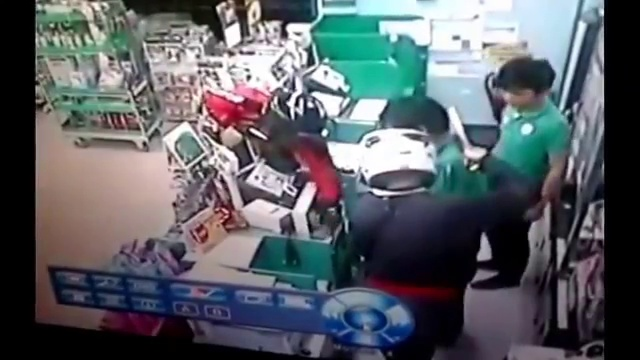helmet: (354, 128, 444, 195), (271, 80, 325, 135)
